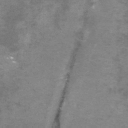finishing roll printing: (53, 11, 90, 128)
